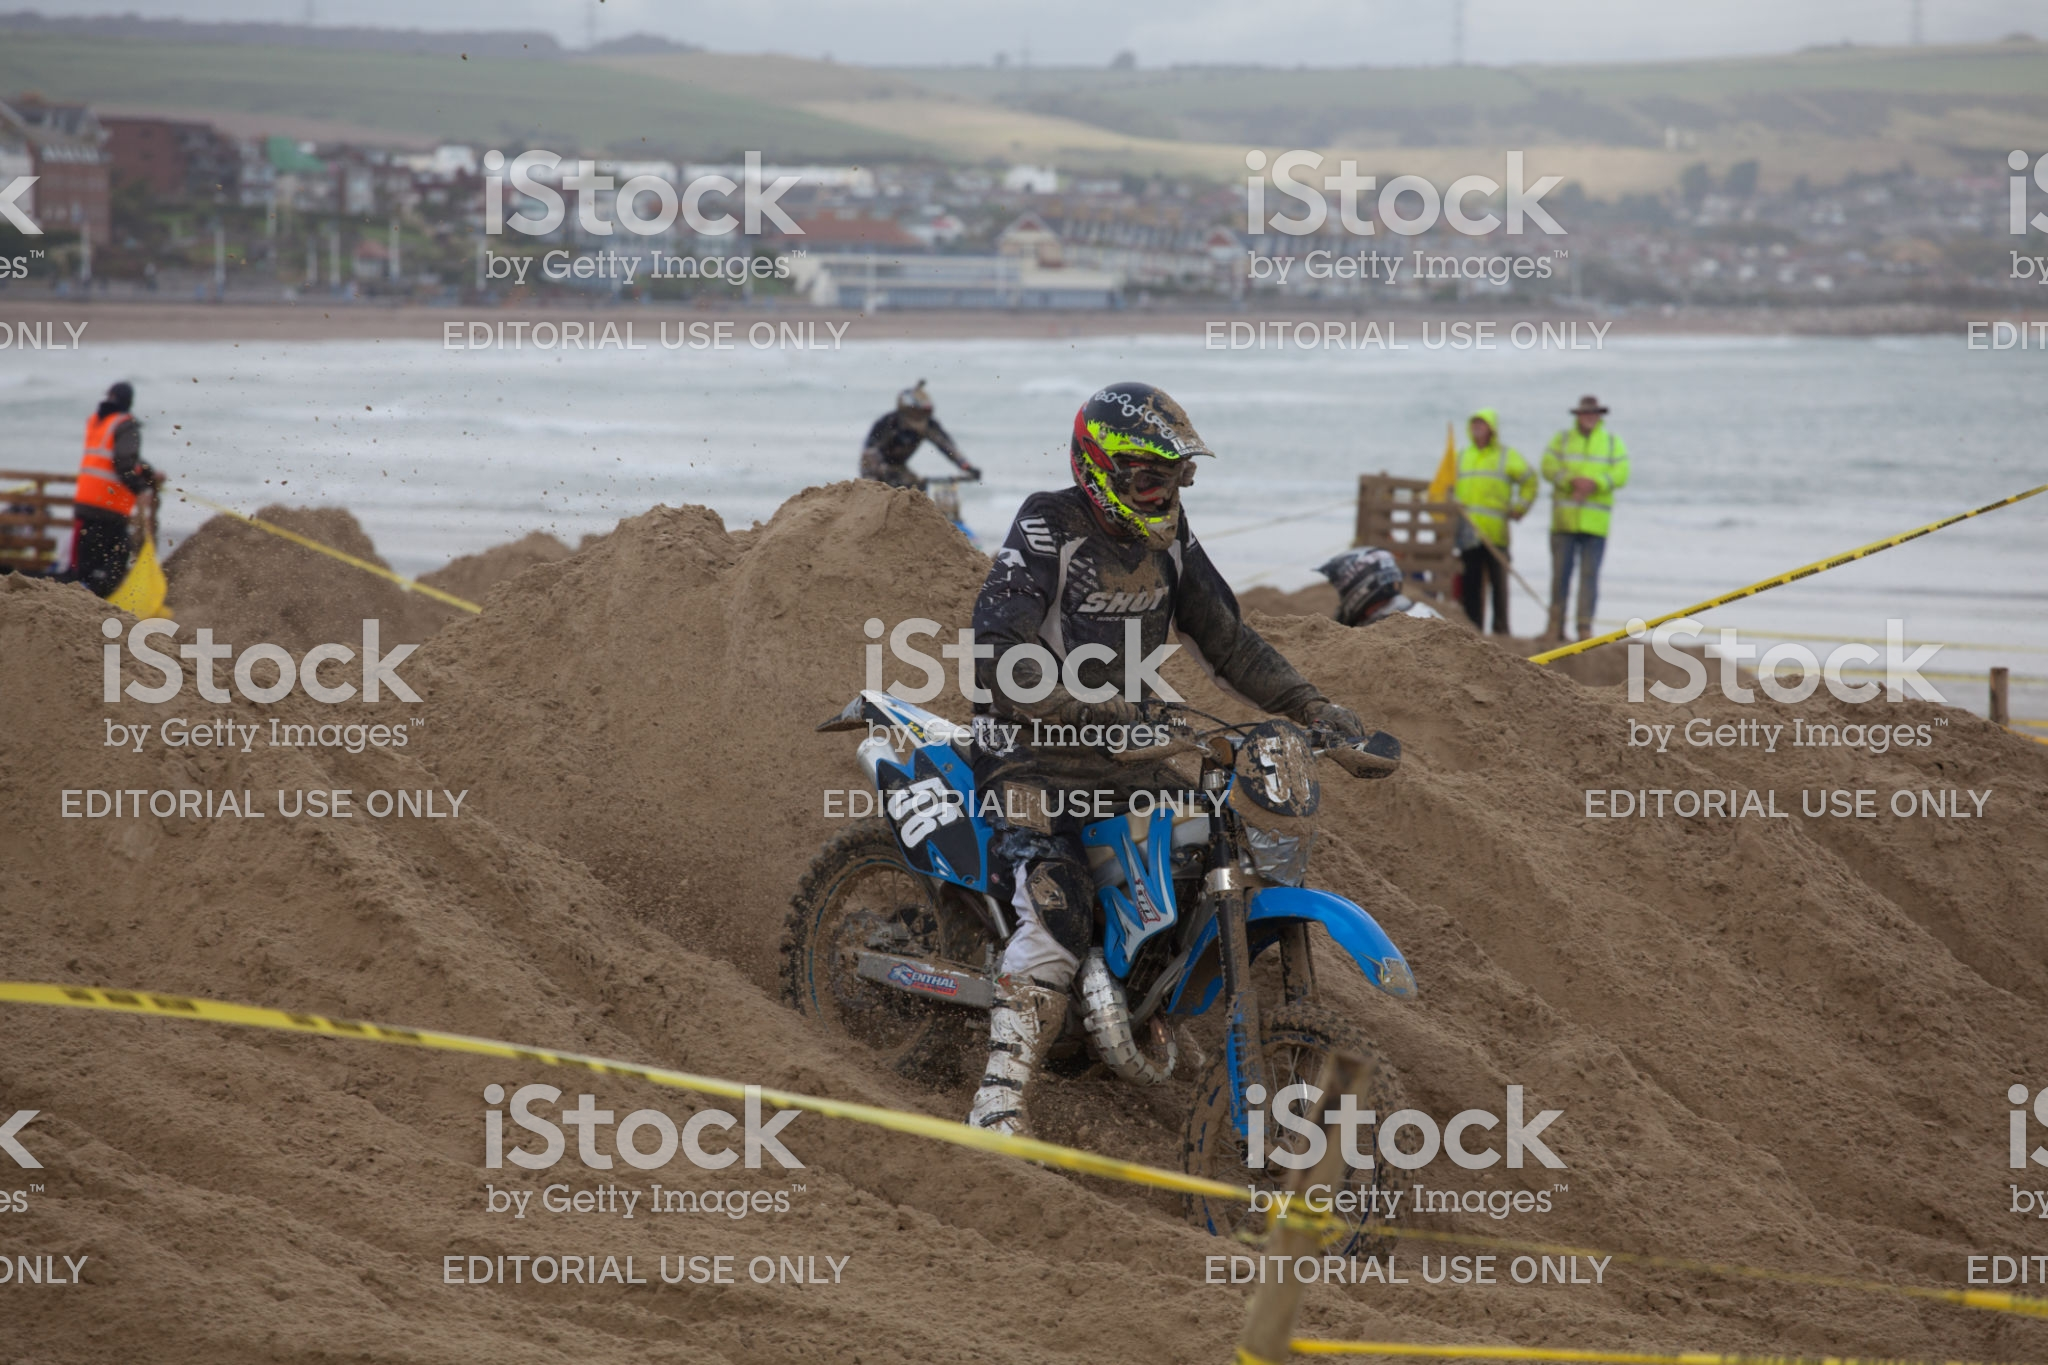helmet: (1073, 382, 1204, 550)
